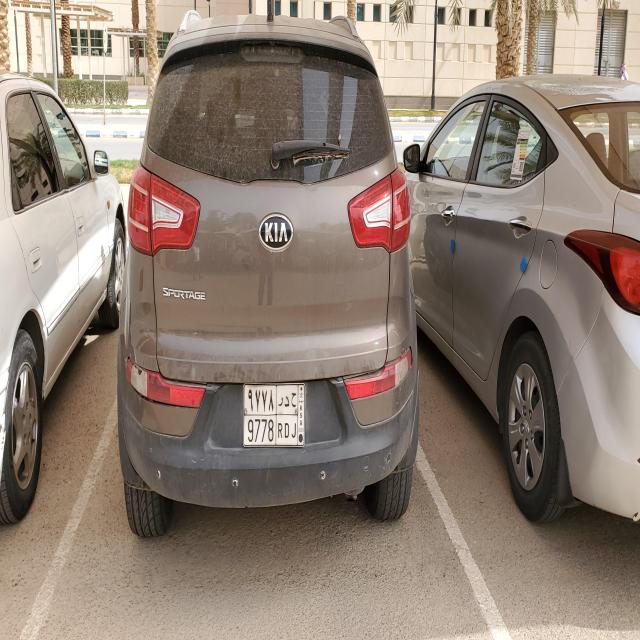license_plate: (240, 377, 311, 457)
